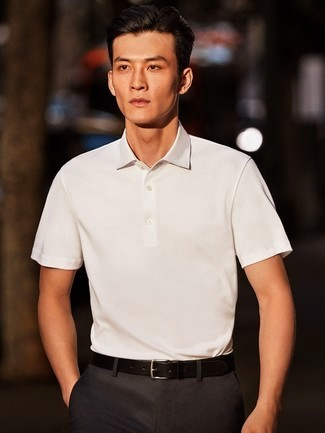F_belt: (82, 349, 234, 382)
F_shirt: (36, 126, 290, 359)
